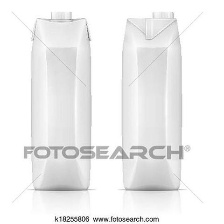carton: (116, 4, 189, 194), (25, 6, 94, 194)
